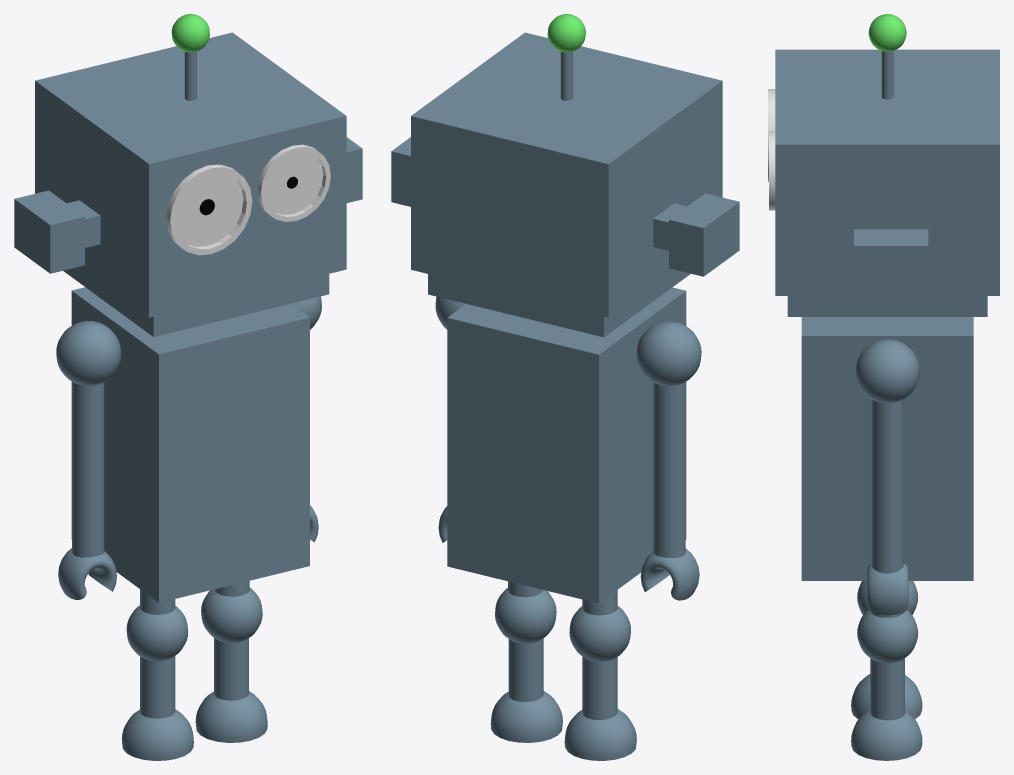
The model's file is Robot1.fbx.
3 views of the same model, side by side, from view 1: azimuth 30°, elevation 25°; view 2: azimuth 150°, elevation 25°; view 3: azimuth 270°, elevation 25° (orthographic).
Visible parts, largest first — view 1: Head, Torso, EyeR, ArmR, EyeL, ShoulderR, FootL, FootR, KneeR, KneeL, BottomLegR, BottomLegL (+3 smaller); view 2: Head, Torso, ArmR, ShoulderR, FootL, FootR, KneeR, KneeL, BottomLegL, BottomLegR, HandR, Light (+1 smaller); view 3: Head, Torso, ArmL, ShoulderL, FootL, KneeL, BottomLegL, HandL, FootR, Light, Antenna, KneeR (+1 smaller).
Boxes of the visible parts, bbox=[...] form: Head: bbox=[14, 32, 362, 336]; Torso: bbox=[71, 287, 309, 602]; EyeR: bbox=[166, 164, 252, 255]; ArmR: bbox=[72, 382, 104, 557]; EyeL: bbox=[257, 144, 330, 221]; ShoulderR: bbox=[56, 321, 121, 385]; FootL: bbox=[195, 691, 267, 742]; FootR: bbox=[121, 709, 193, 760]; KneeR: bbox=[126, 605, 188, 660]; KneeL: bbox=[201, 587, 262, 642]; BottomLegR: bbox=[140, 656, 175, 718]; BottomLegL: bbox=[214, 638, 248, 700]; Head: bbox=[391, 32, 739, 337]; Torso: bbox=[447, 287, 686, 603]; ArmR: bbox=[653, 382, 685, 558]; ShoulderR: bbox=[636, 321, 701, 386]; FootL: bbox=[490, 691, 562, 742]; FootR: bbox=[564, 709, 636, 760]; KneeR: bbox=[569, 606, 630, 661]; KneeL: bbox=[495, 588, 556, 643]; BottomLegL: bbox=[508, 638, 543, 701]; BottomLegR: bbox=[582, 656, 617, 720]; HandR: bbox=[640, 548, 699, 600]; Light: bbox=[547, 14, 585, 52]; Head: bbox=[775, 49, 999, 316]; Torso: bbox=[801, 317, 973, 580]; ArmL: bbox=[871, 399, 903, 573]; ShoulderL: bbox=[855, 339, 919, 403]; FootL: bbox=[851, 709, 922, 760]; KneeL: bbox=[857, 610, 918, 663]; BottomLegL: bbox=[870, 658, 904, 720]; HandL: bbox=[867, 563, 908, 615]; FootR: bbox=[851, 674, 922, 719]; Light: bbox=[868, 14, 906, 51]; Antenna: bbox=[881, 51, 893, 99]; KneeR: bbox=[857, 581, 918, 614].
Size of the model in its own units: 170 by 376 by 111.
